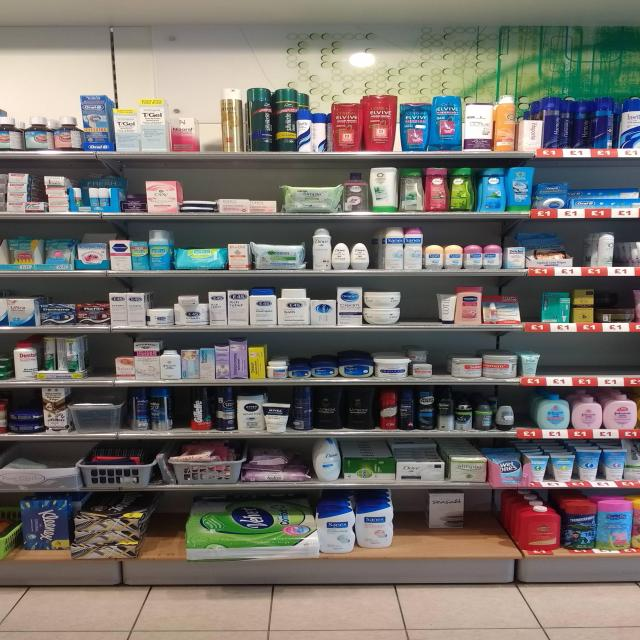empty_space: (414, 524, 517, 552)
